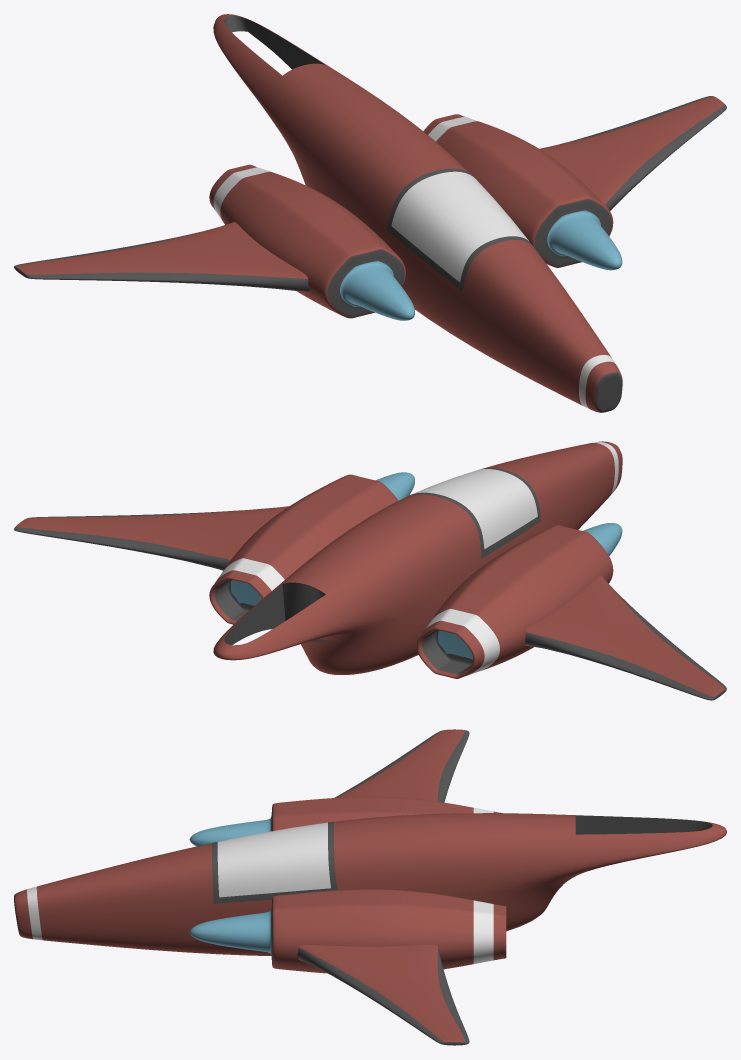
Rendered from vanguard_1.glb.
3 views of the same model, one above another, from view 1: azimuth 30°, elevation 25°; view 2: azimuth 150°, elevation 25°; view 3: azimuth 270°, elevation 25° (orthographic). The views are drawn at different scales.
Visible parts, largest first — view 1: Cube.002, Cube.014, Cube.015; view 2: Cube.002, Cube.014, Cube.015; view 3: Cube.002, Cube.014, Cube.015.
Boxes of the visible parts, x1,y1,x2,y2 form: Cube.002: (213, 14, 622, 412); Cube.014: (209, 114, 622, 320); Cube.015: (14, 96, 726, 292); Cube.002: (213, 441, 622, 674); Cube.014: (209, 472, 622, 678); Cube.015: (14, 506, 726, 700); Cube.002: (14, 813, 726, 955); Cube.014: (189, 796, 506, 973); Cube.015: (297, 729, 469, 1045).
Size of the model in its own units: 10.34 by 2.02 by 9.96.
